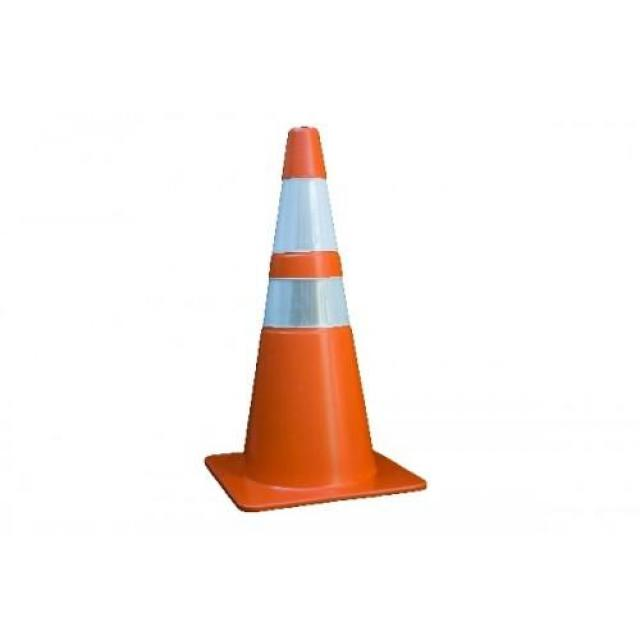cone: (197, 119, 439, 514)
